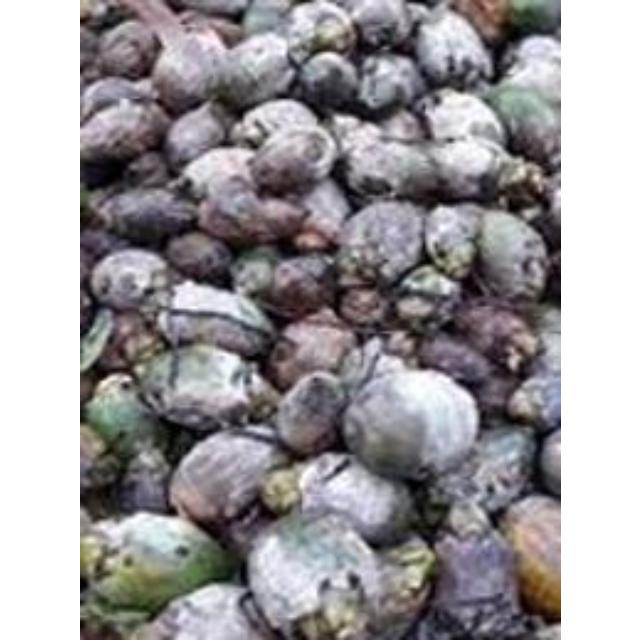damaged: (248, 508, 382, 638), (340, 365, 476, 483), (168, 425, 284, 533), (140, 345, 264, 431), (156, 281, 272, 357), (335, 198, 425, 288), (205, 31, 295, 110), (472, 208, 546, 302), (411, 6, 493, 90), (148, 32, 230, 112), (266, 320, 352, 396), (271, 372, 347, 456), (79, 98, 167, 170), (340, 133, 430, 203), (422, 135, 506, 203), (250, 126, 332, 194), (412, 88, 504, 148), (89, 248, 169, 312), (352, 52, 422, 116), (264, 254, 336, 316), (280, 0, 356, 58), (177, 147, 253, 199)
